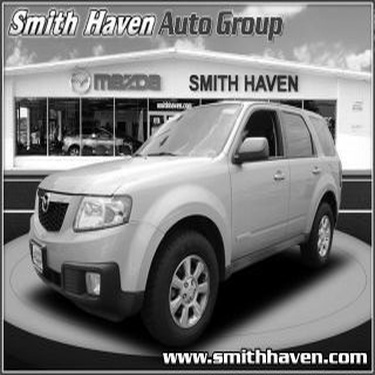car: (23, 93, 351, 350), (52, 125, 147, 161)
